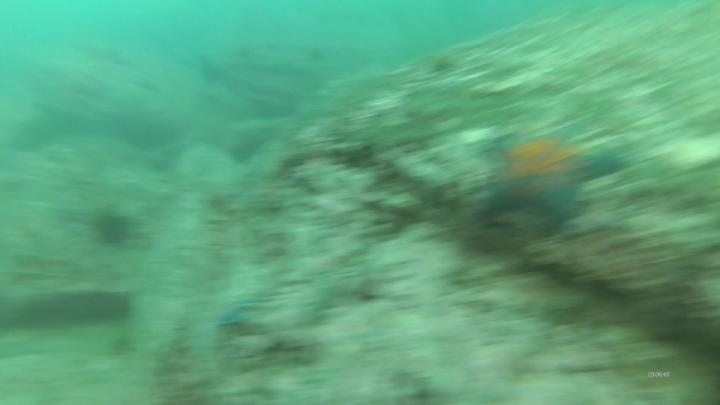echinus: (89, 207, 137, 251)
starfish: (469, 117, 629, 235)
